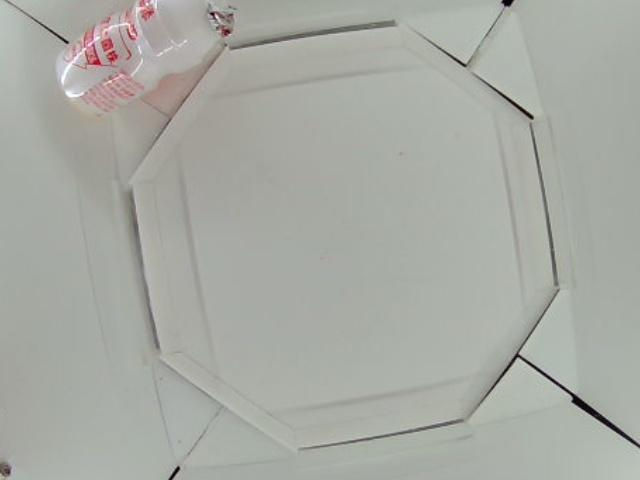Bottle: (54, 1, 236, 119)
